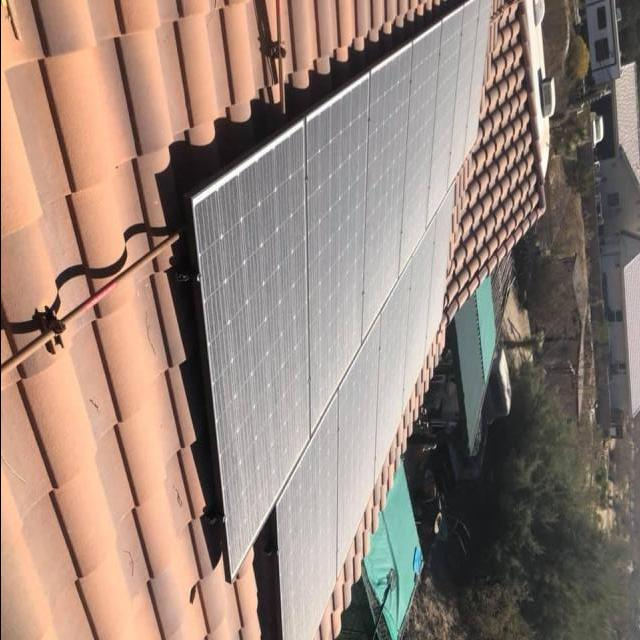soiled: (185, 2, 494, 636)
